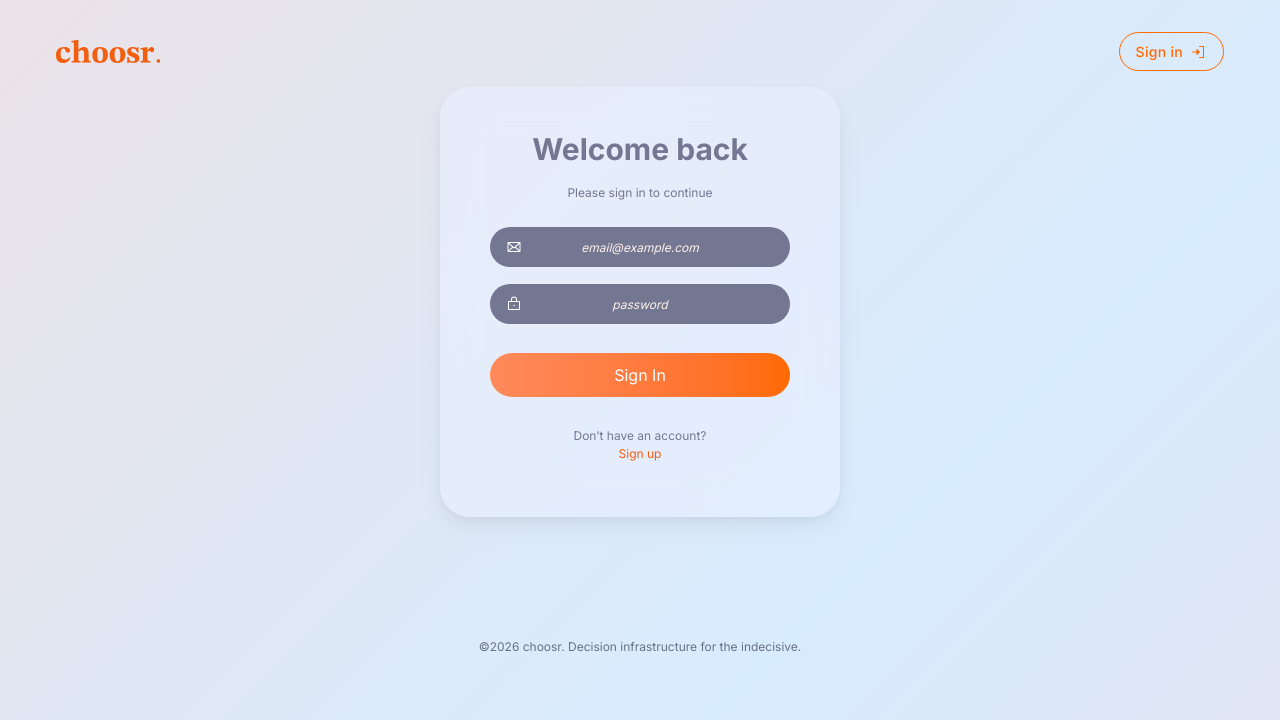
Test: Login Page › logs in successfully and redirects to /my-polls
The width and height of the screenshot is (1280, 720).
Type "test@example.com" into the field with placeholder "email@example.com" at (640, 247), box [490,227,790,267]
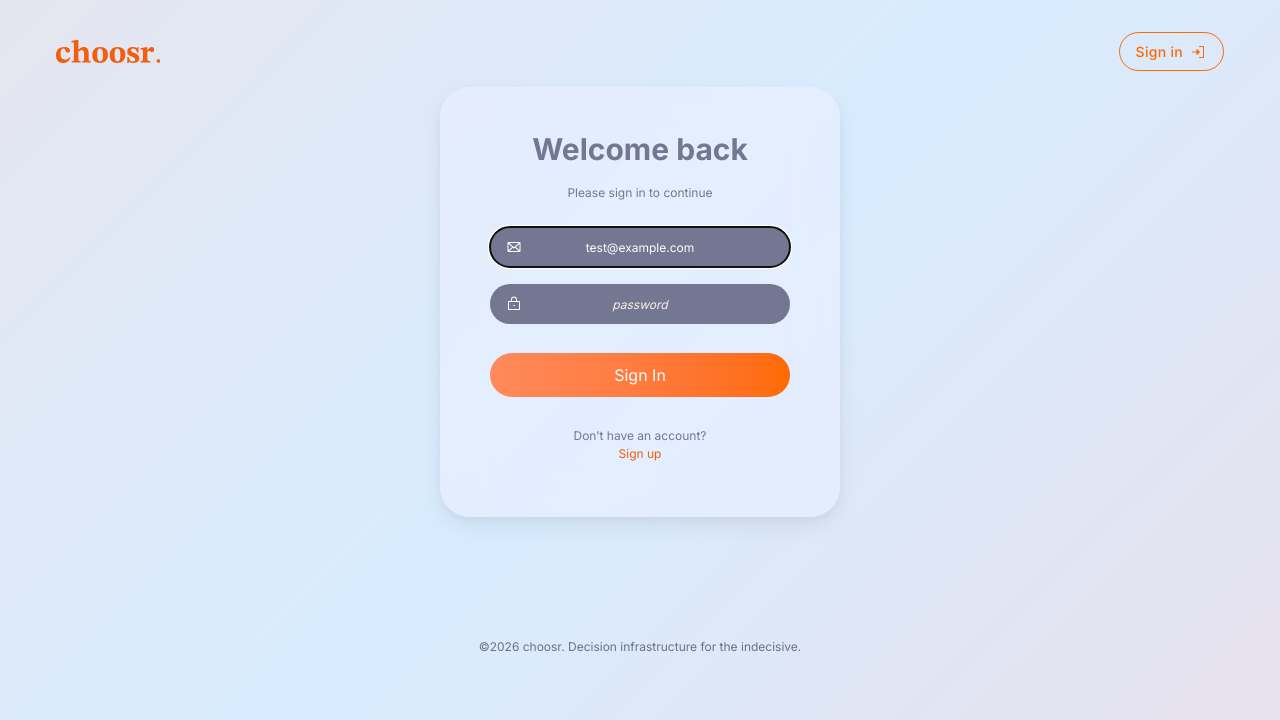
Type "correctpassword" into the password field with placeholder "password" at (640, 304), box [490,284,790,324]
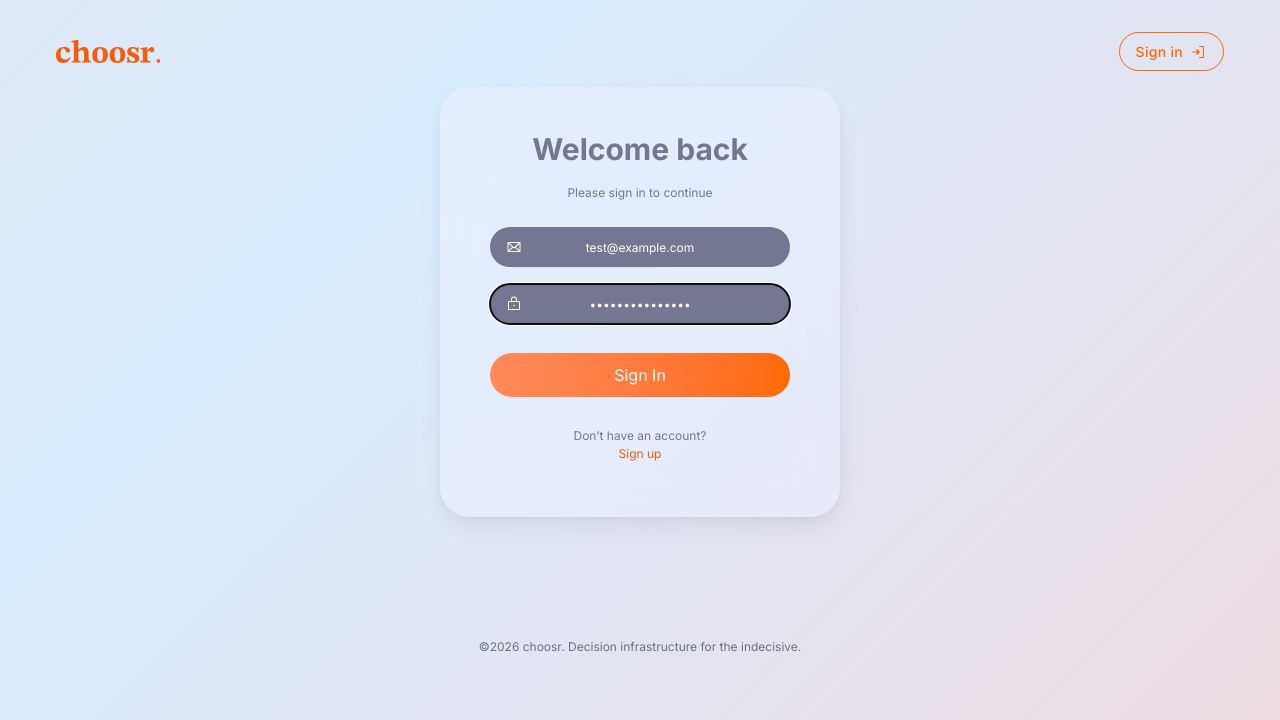
Click the submit button at (640, 375), box [490,353,790,397]
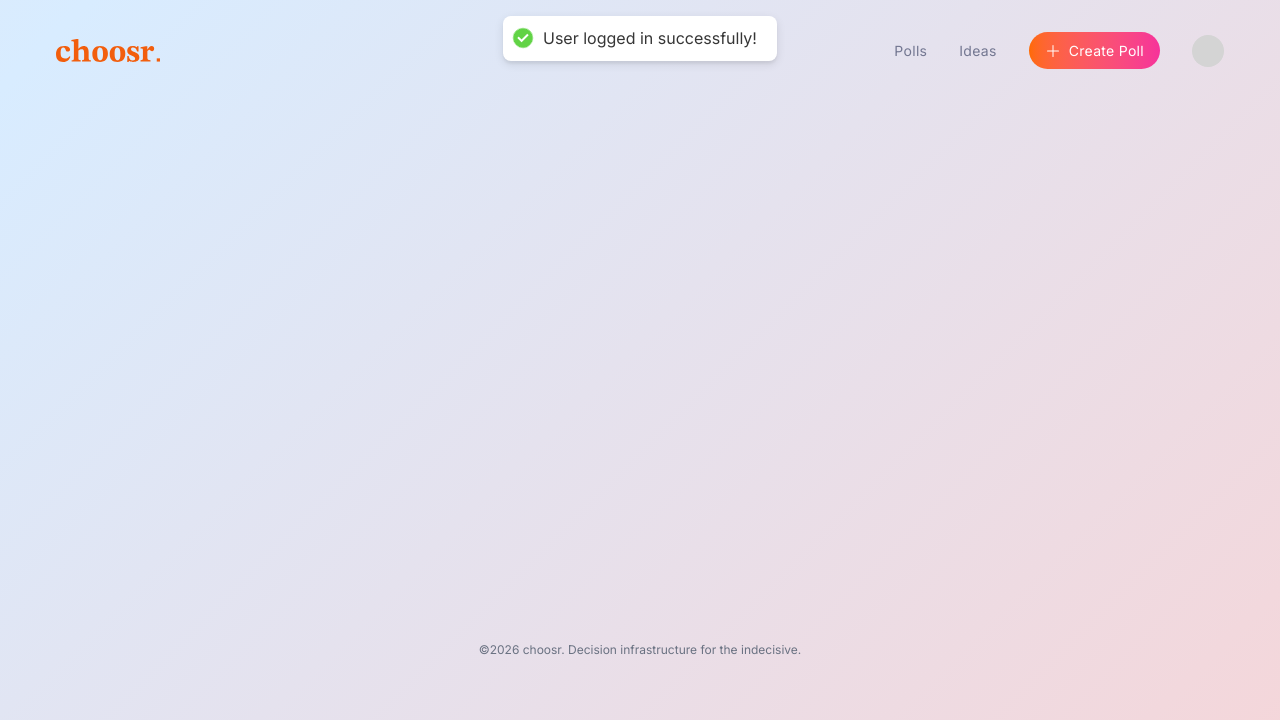
Expected: the text "User logged in successfully!" is shown, [543,28,757,49]
